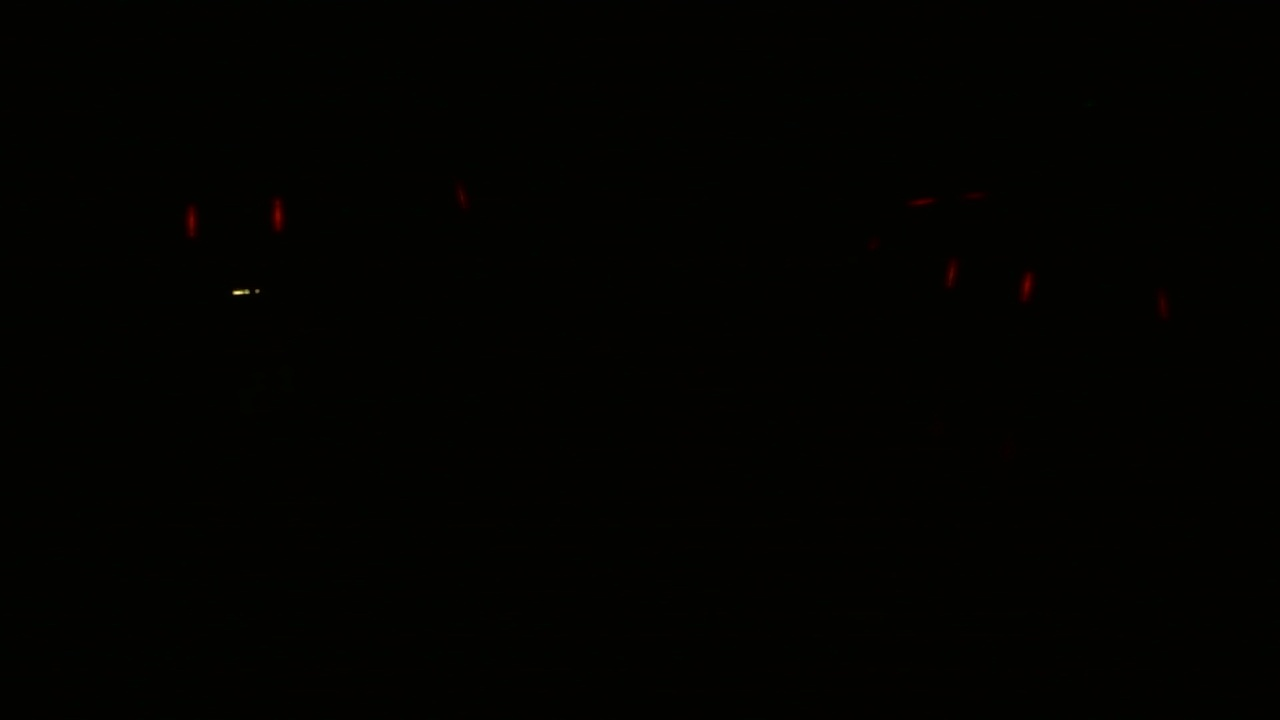pair1: (945, 257, 1034, 305), (181, 197, 285, 236)
